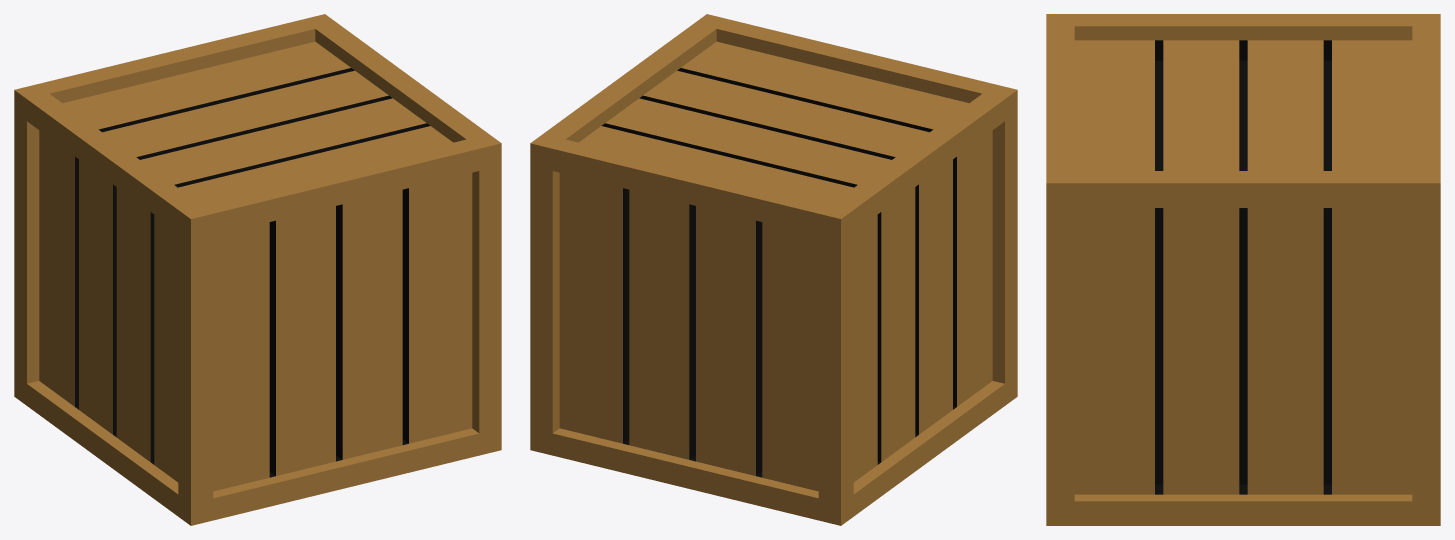
File: BoxObstacle.fbx
3 views of the same model, side by side, from view 1: azimuth 30°, elevation 25°; view 2: azimuth 150°, elevation 25°; view 3: azimuth 270°, elevation 25° (orthographic). The views are drawn at different scales.
Parts seen in each view (by area): view 1: BoxObstacle; view 2: BoxObstacle; view 3: BoxObstacle.
Part boxes in pixels (box(x1,y1,x2,y2)): BoxObstacle: box(14, 14, 501, 525); BoxObstacle: box(530, 14, 1017, 525); BoxObstacle: box(1046, 14, 1440, 525).
Bounding box in the file's own units: 36.67 × 34.59 × 36.11.
